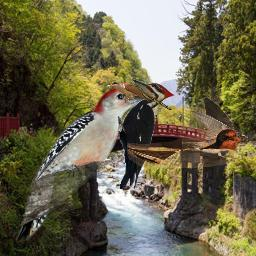Cuckoo: (106, 81, 172, 110)
Swallow: (127, 128, 238, 168), (181, 97, 248, 158)
Woodpecker: (16, 87, 159, 243), (118, 78, 177, 189)
